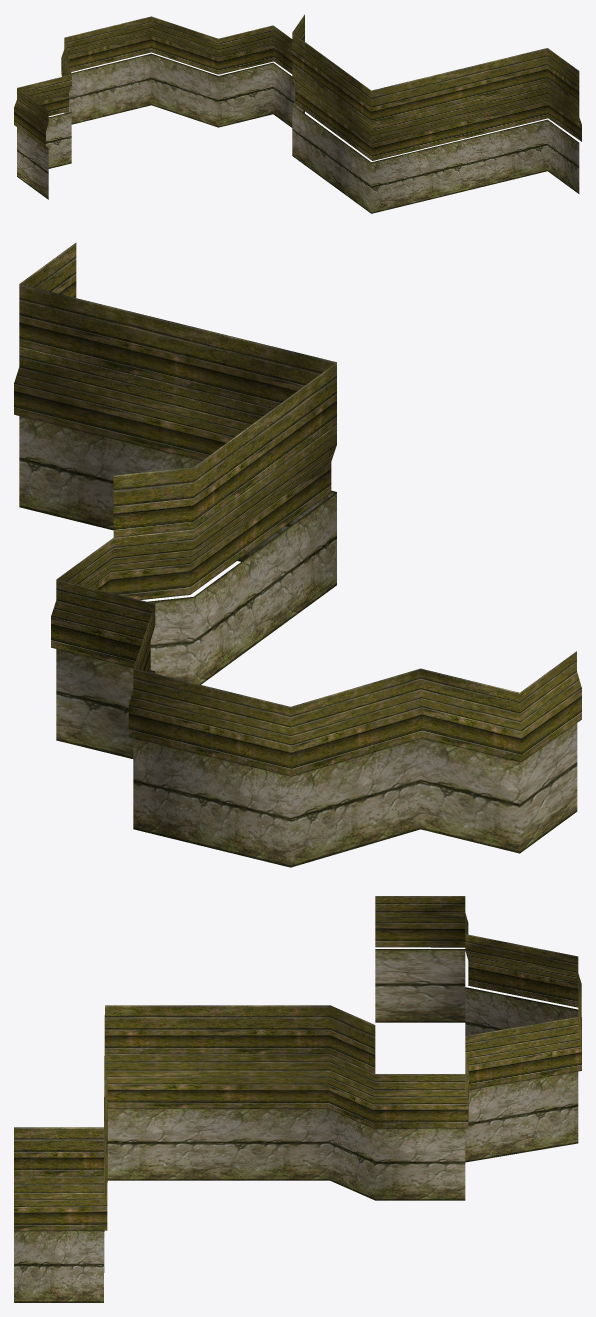
The model's file is OVERHILL_A_01_LINE395.fbx.
3 views of the same model, one above another, from view 1: azimuth 30°, elevation 25°; view 2: azimuth 150°, elevation 25°; view 3: azimuth 270°, elevation 25° (orthographic). The views are drawn at different scales.
Parts seen in each view (by area): view 1: OVERHILL_A_01_LINE395; view 2: OVERHILL_A_01_LINE395; view 3: OVERHILL_A_01_LINE395.
Boxes of the visible parts, left/top/right/bottom form: OVERHILL_A_01_LINE395: left=14, top=14, right=581, bottom=213; OVERHILL_A_01_LINE395: left=14, top=242, right=581, bottom=867; OVERHILL_A_01_LINE395: left=14, top=896, right=581, bottom=1302.
Bounding box in the file's own units: 149287 × 43000 × 126084.
3 materials, 3 textured.
